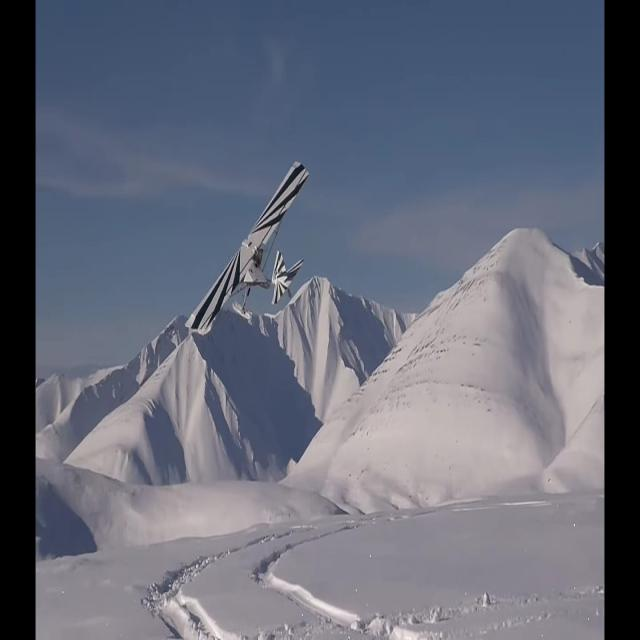iha: (217, 159, 277, 336)
